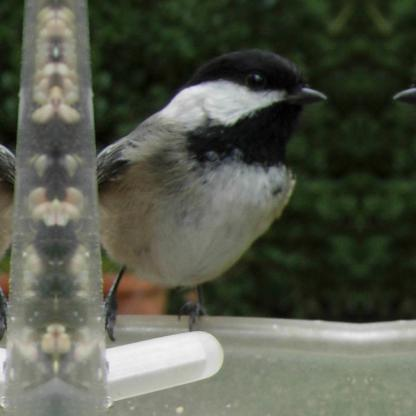Bird: (83, 40, 333, 344)
